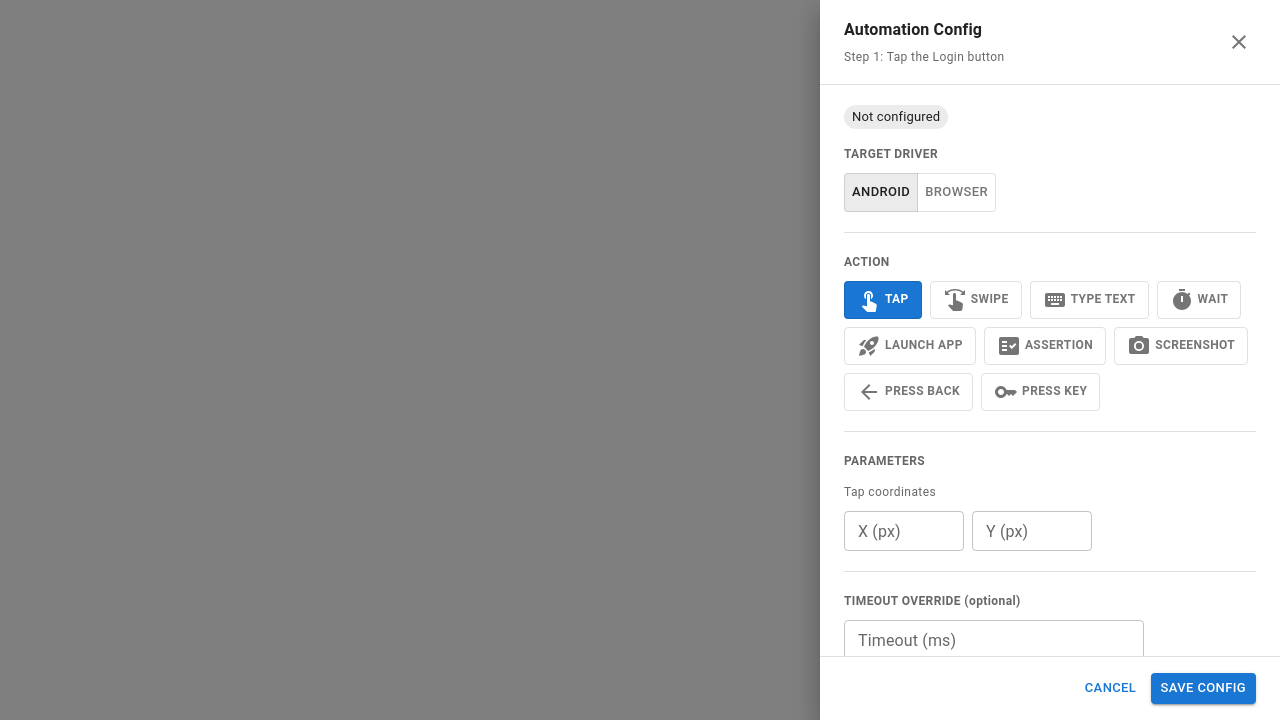
AutomationConfigEditor — action-specific param fields › shows package field for launch_app action
This screenshot has width=1280, height=720.
Click the button "Launch App" at coordinates (910, 346), box [844, 327, 976, 365]
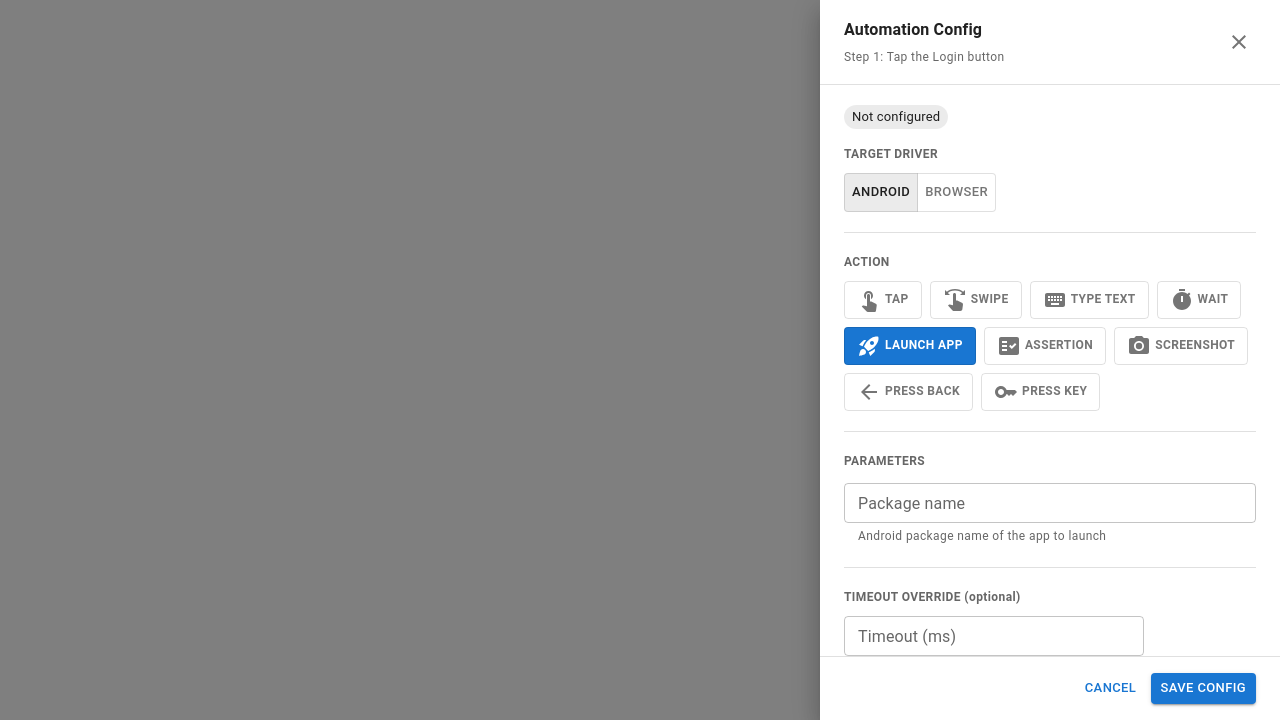
expect the field labelled "Package name" is shown: met, box [844, 484, 1256, 524]
